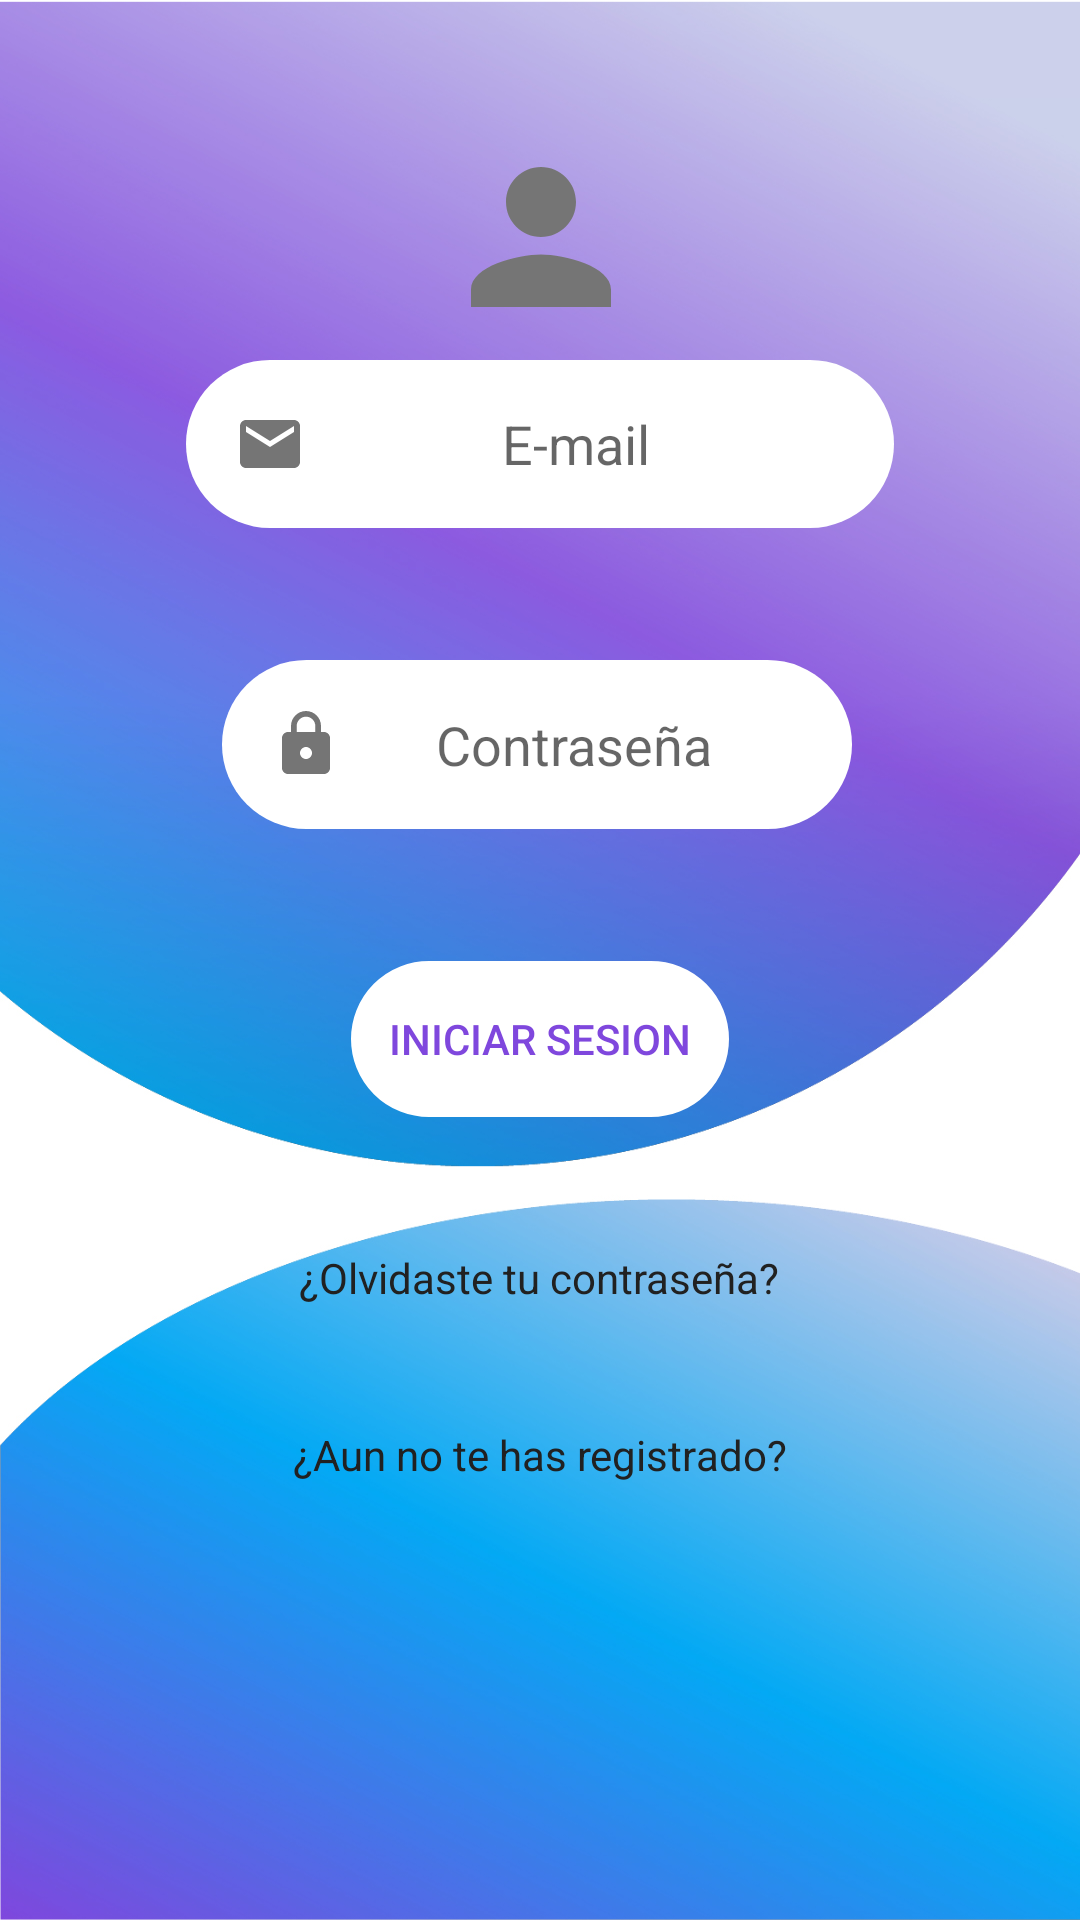

Where to tap for icons on this 1080*1920 app screen, as (x=x, y=y):
person: (x=540, y=237)
